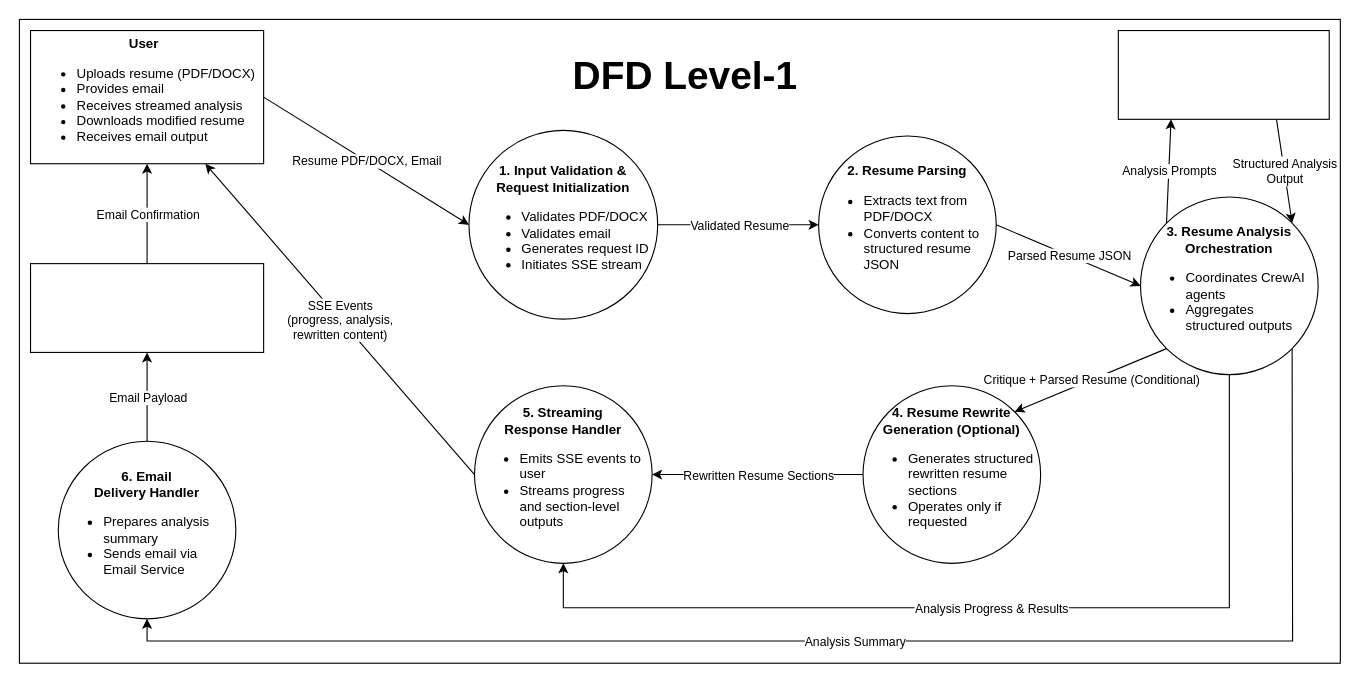
The diagram is 1360 pixels wide and 683 high, and some of its shapes have lost their labels. Here are the shapes that lost their labels. From the top down, the centre of each, then its label:
At [1223,74]: "LLM Provider Performs analysis and rewriting".
At [146,307]: "Email Service Sends email to user".
